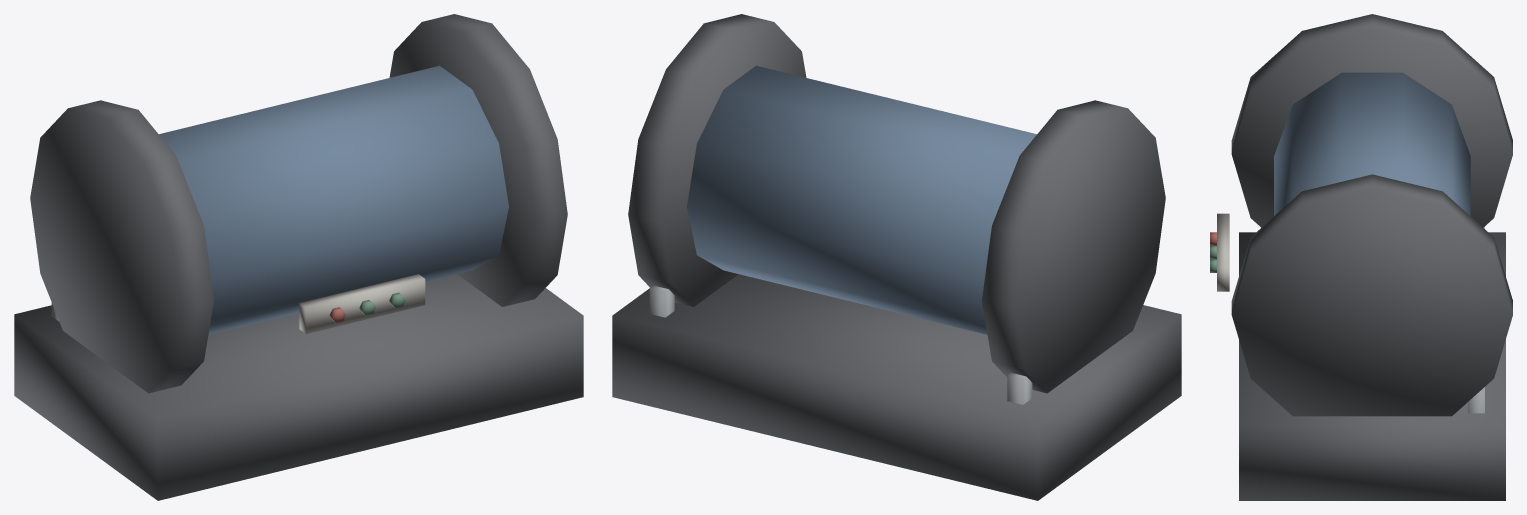
The model's file is bench_grinder__reinforced.glb.
3 renders of one model, left to right at view 1: azimuth 30°, elevation 25°; view 2: azimuth 150°, elevation 25°; view 3: azimuth 270°, elevation 25°, orthographic. The views are drawn at different scales.
Visible parts, largest first — view 1: world; view 2: world; view 3: world.
Boxes of the visible parts, bbox=[...] form: world: bbox=[14, 14, 583, 500]; world: bbox=[612, 14, 1181, 500]; world: bbox=[1210, 14, 1512, 500].
Size of the model in its own units: 0.6695 by 0.4896 by 0.4439.
